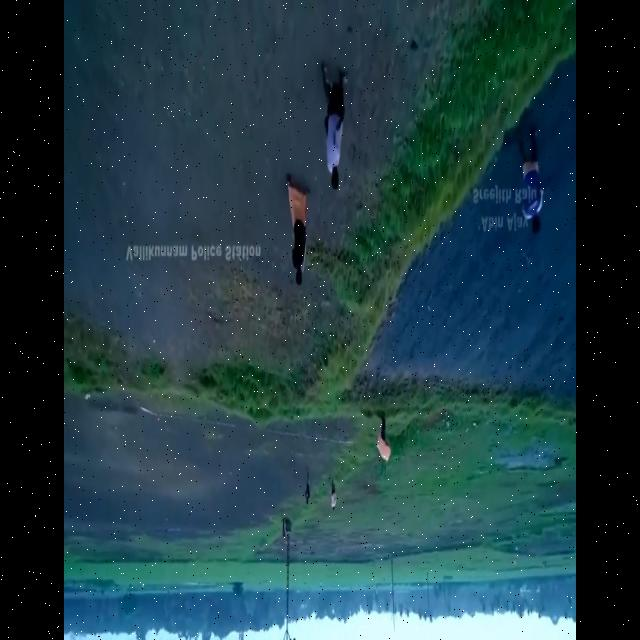humans: (516, 122, 545, 244), (322, 61, 349, 192), (285, 167, 311, 293), (303, 463, 314, 512), (328, 473, 339, 517)
